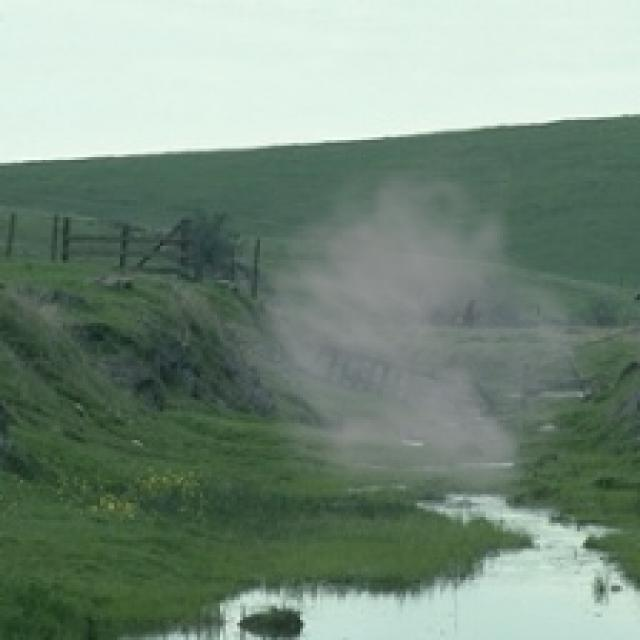smoke: (203, 129, 617, 514)
